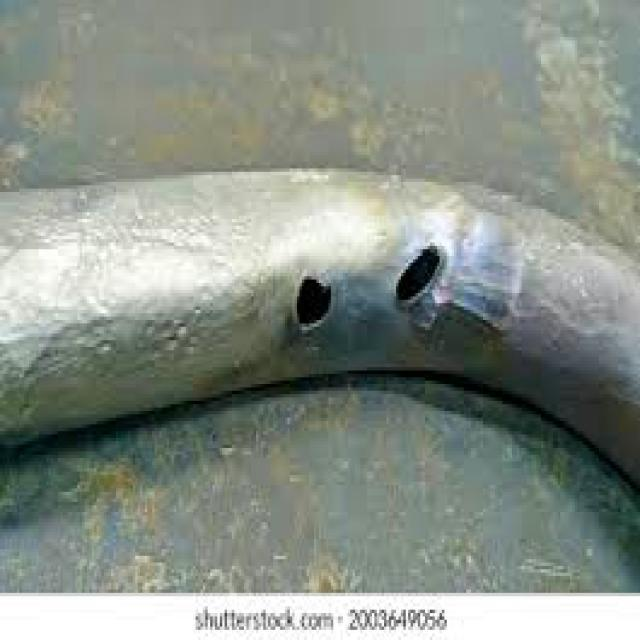hole: (400, 246, 446, 310), (296, 273, 336, 327)
